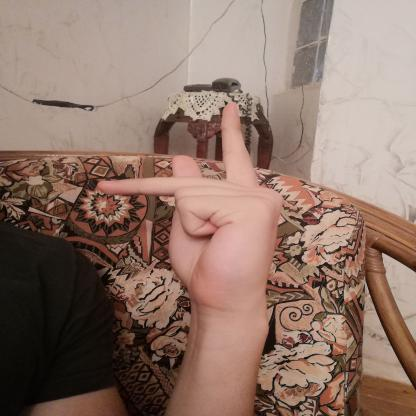DHAA: (79, 91, 297, 318)
